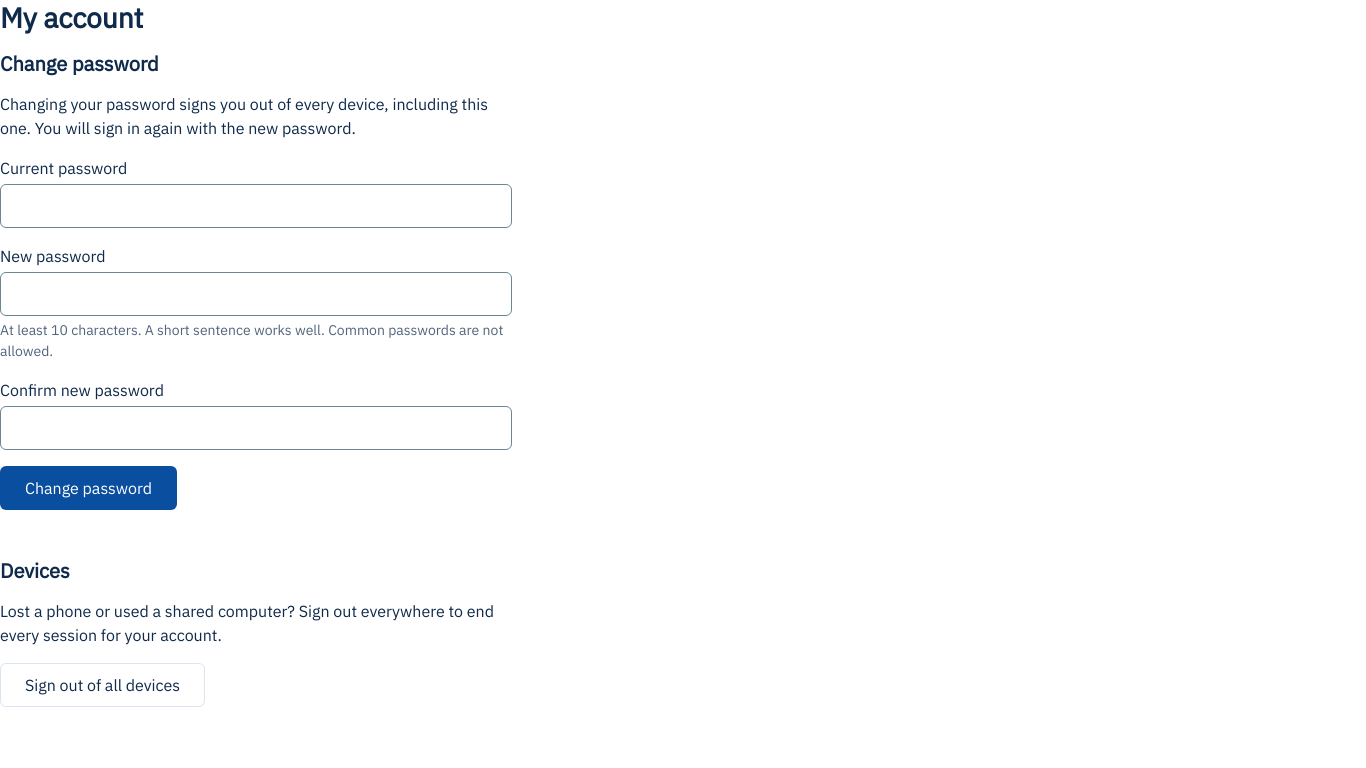
Test: AccountPage › sign out of all devices › asks first, then ends every session and shows a notice on the sign-in page
Click the button "Sign out of all devices". click: point(103, 685)
box: [0,663,205,707]
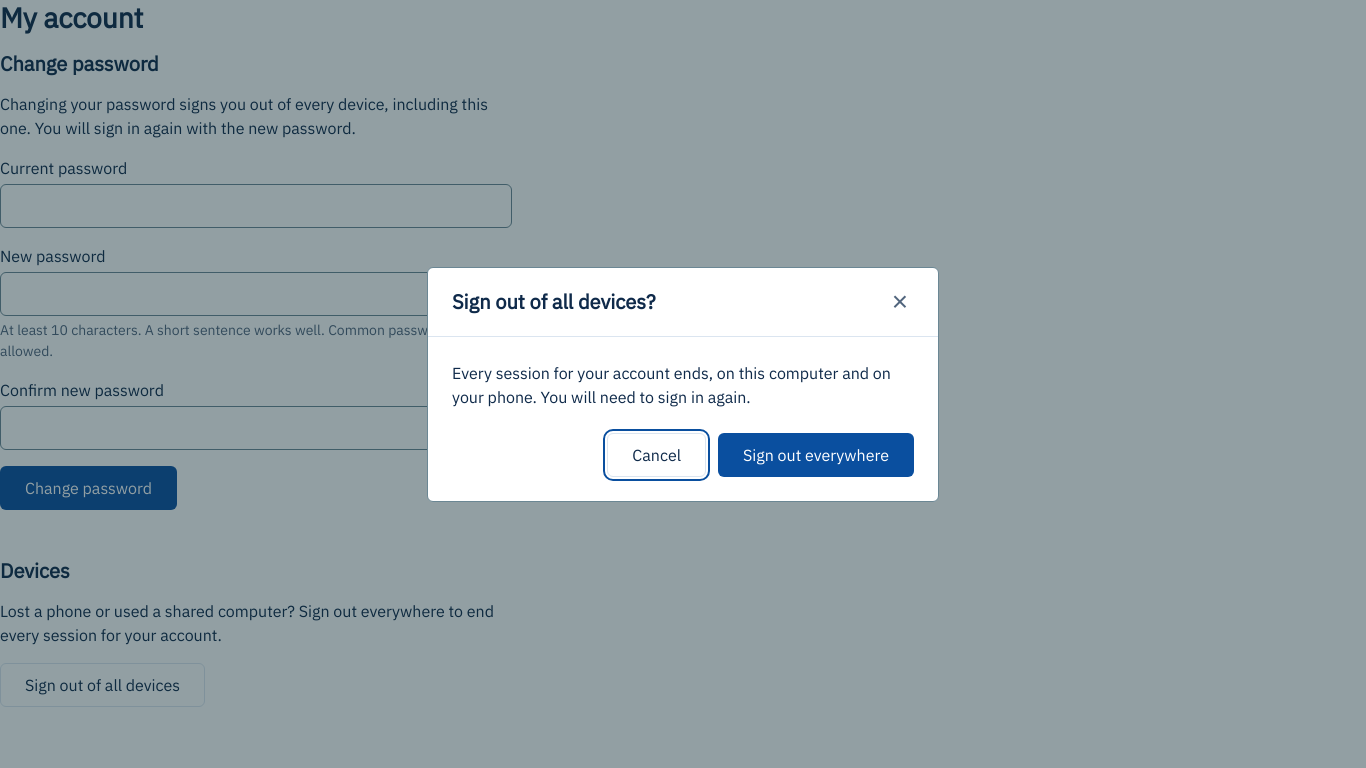
Click the button "Sign out everywhere". click: point(816, 454)
box: [718,432,914,476]
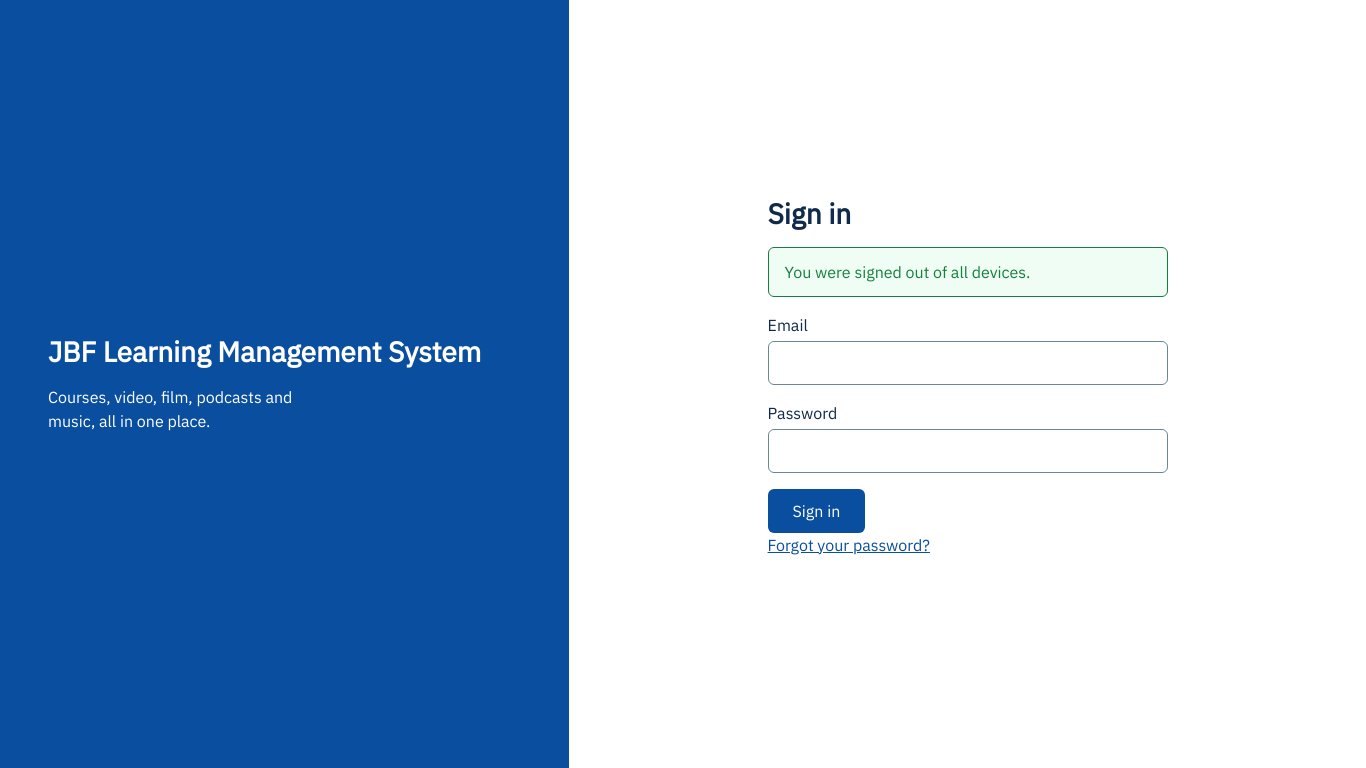
Expected: the heading "Sign in" is shown, [768,194,851,232]
Expected: the message reads "You were signed out of all devices.", [785,262,1030,282]
